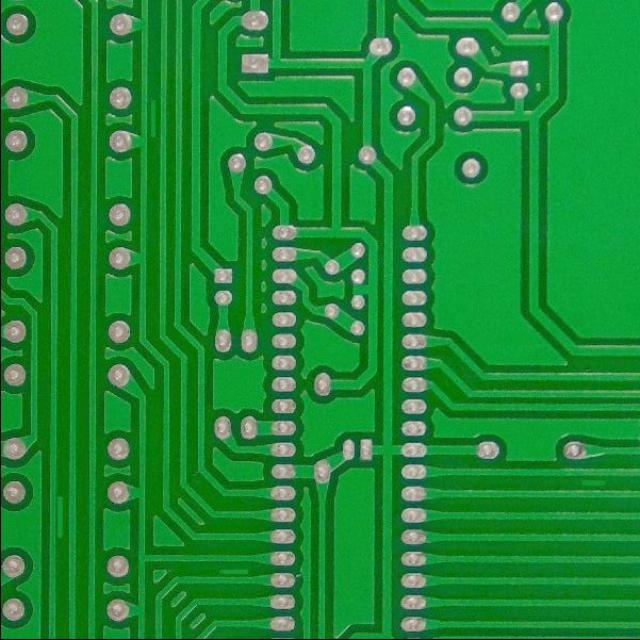spurious_copper: (49, 490, 68, 542), (144, 94, 161, 142), (212, 564, 253, 580), (577, 475, 608, 495)
